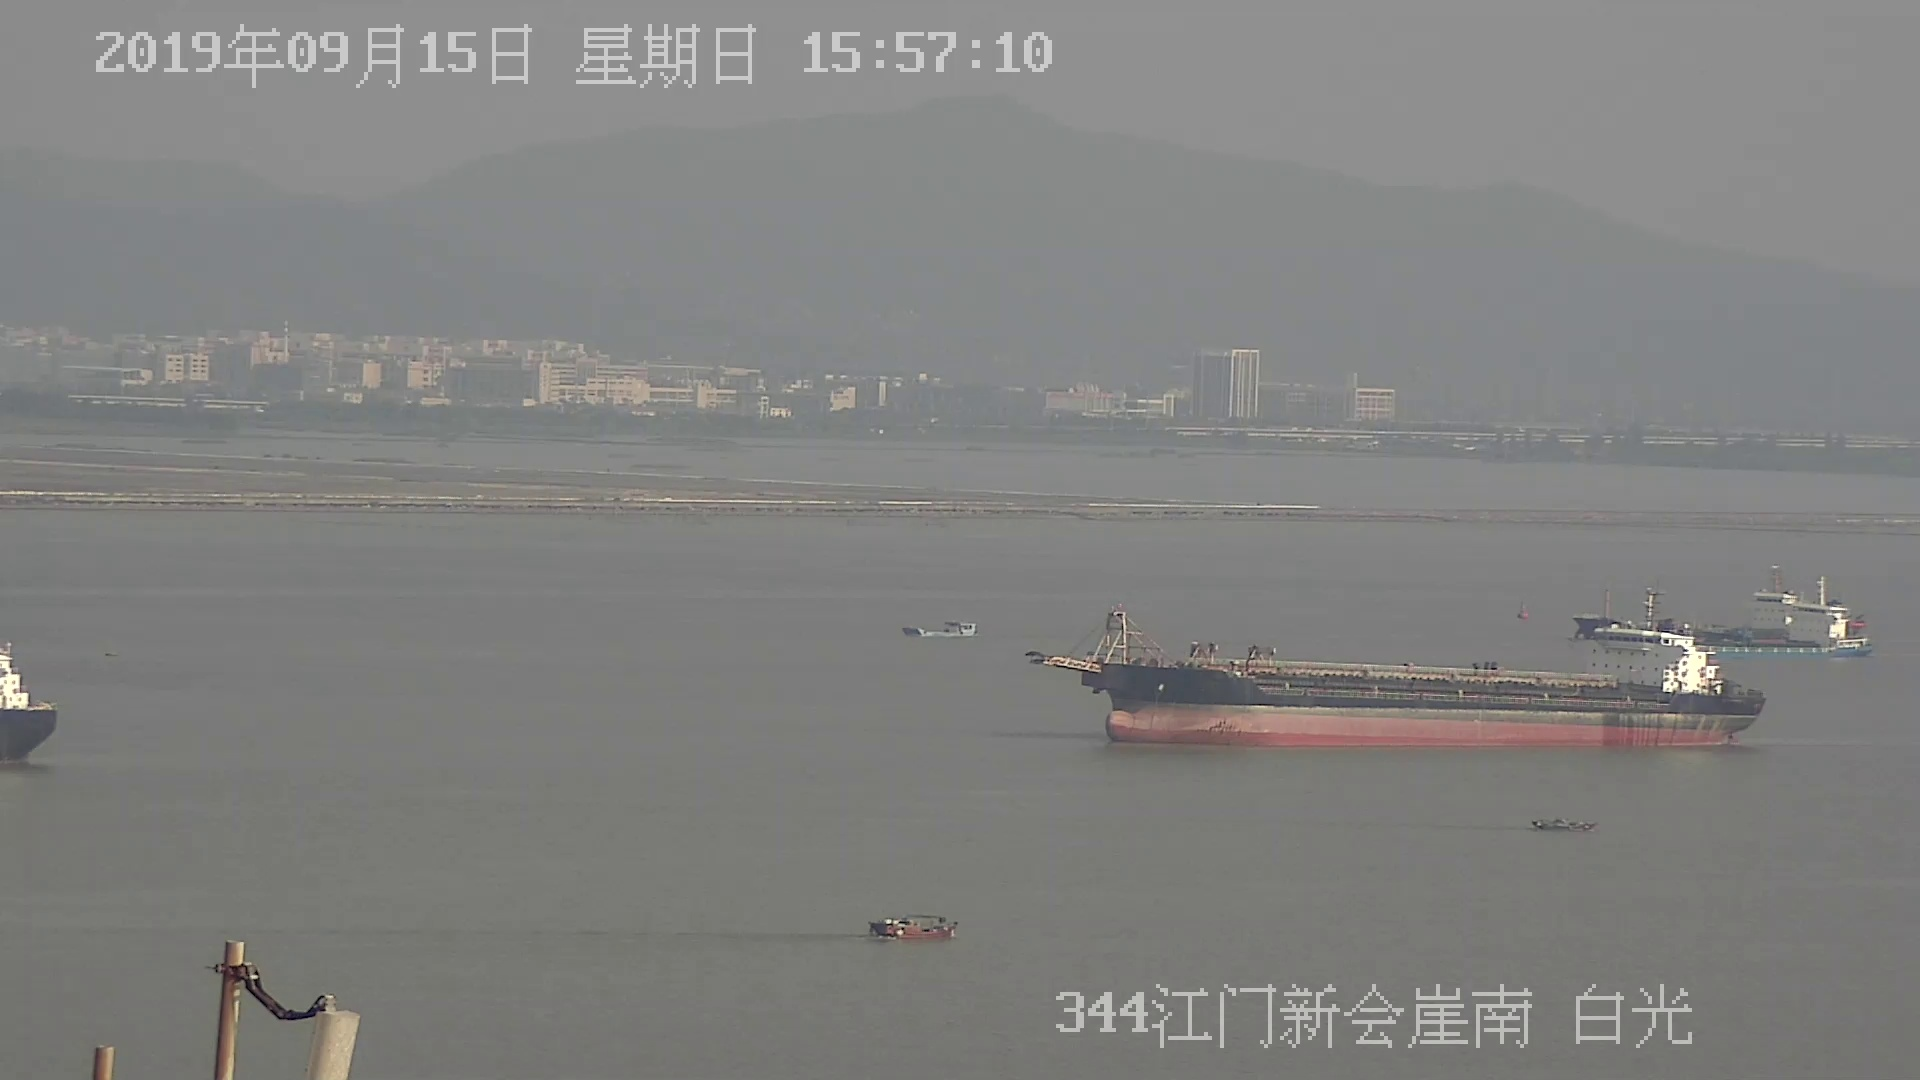ship: (1031, 637, 1768, 745), (1572, 574, 1869, 673), (869, 918, 957, 943), (901, 617, 978, 644)
